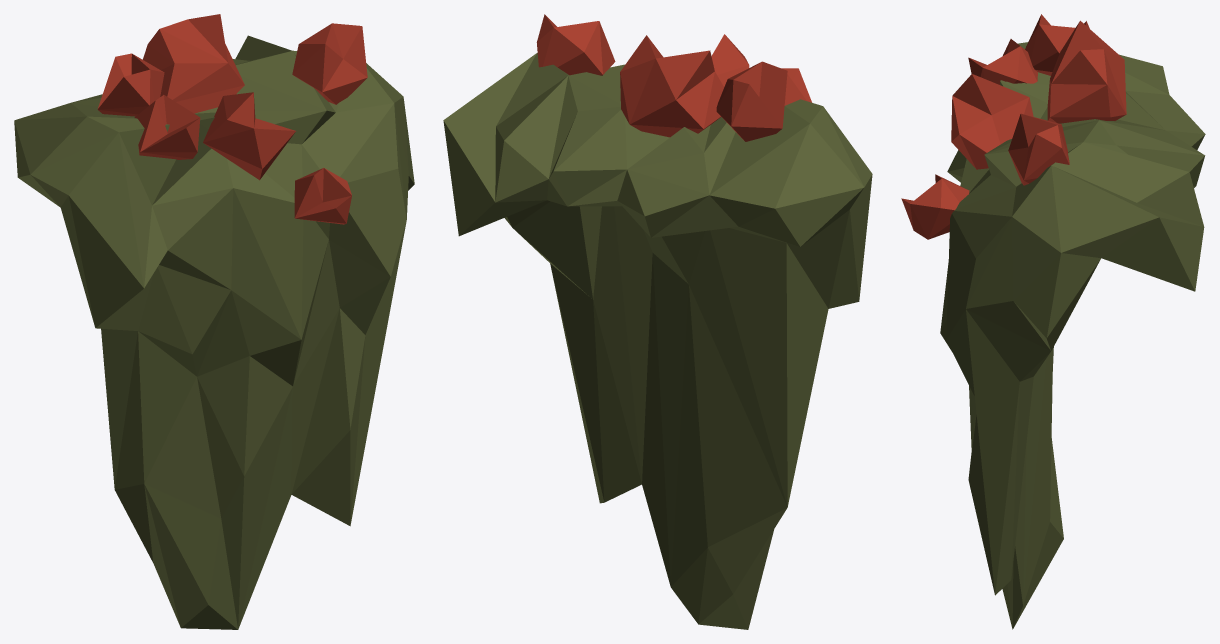
Rendered from SM_Prop_FlowerHanging_01.glb.
3 views of the same model, side by side, from view 1: azimuth 30°, elevation 25°; view 2: azimuth 150°, elevation 25°; view 3: azimuth 270°, elevation 25° (orthographic). The views are drawn at different scales.
Parts seen in each view (by area): view 1: SM_Prop_FlowerHanging_01_part00; view 2: SM_Prop_FlowerHanging_01_part00; view 3: SM_Prop_FlowerHanging_01_part00.
Part boxes in pixels (bbox=[...]): SM_Prop_FlowerHanging_01_part00: bbox=[14, 14, 414, 629]; SM_Prop_FlowerHanging_01_part00: bbox=[443, 14, 872, 629]; SM_Prop_FlowerHanging_01_part00: bbox=[901, 14, 1205, 629].
Size of the model in its own units: 0.6868 by 1.02 by 0.4797.
1 material, 1 textured.
